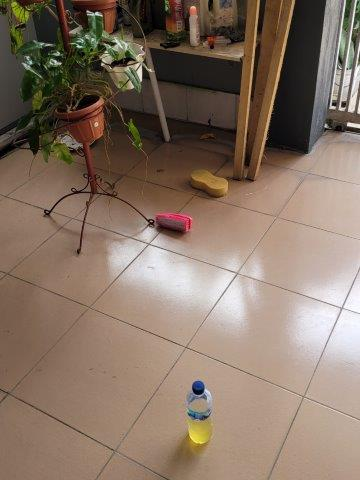botolplastik: (186, 382, 213, 445)
